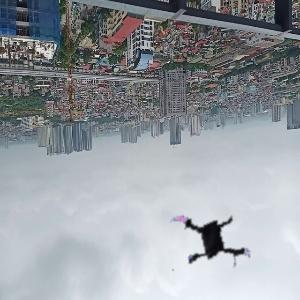drone: (163, 194, 262, 293)
